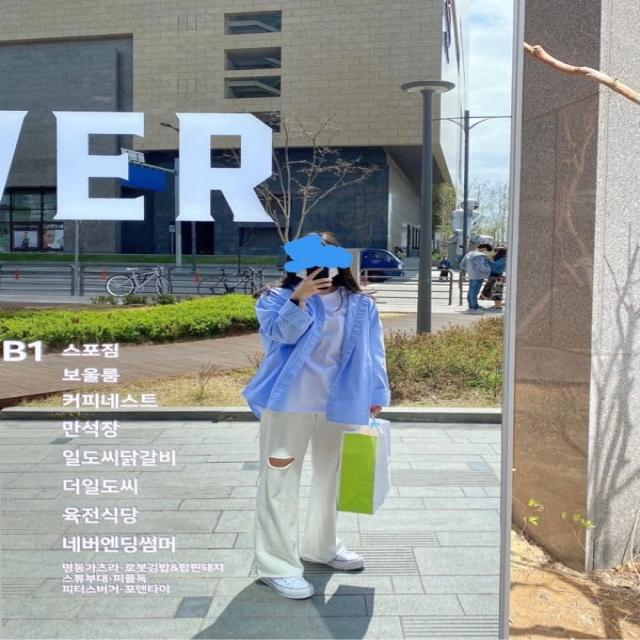cottonpants: (252, 400, 358, 574)
shirt: (245, 289, 392, 428)
